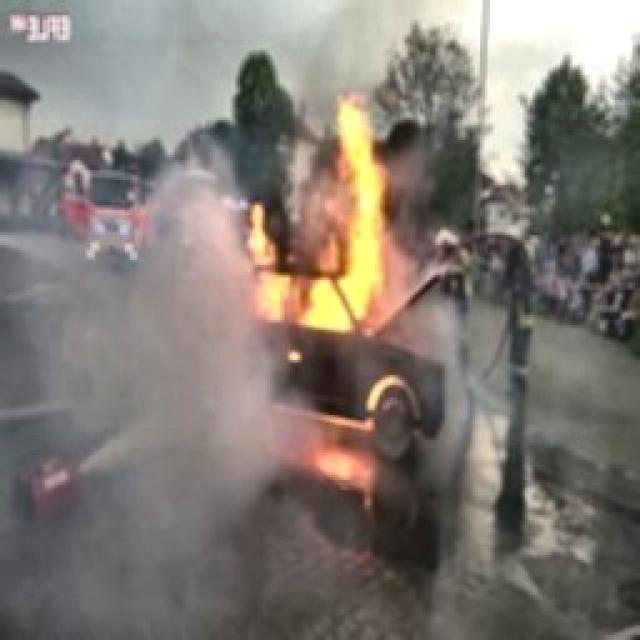fire: (220, 100, 445, 470)
